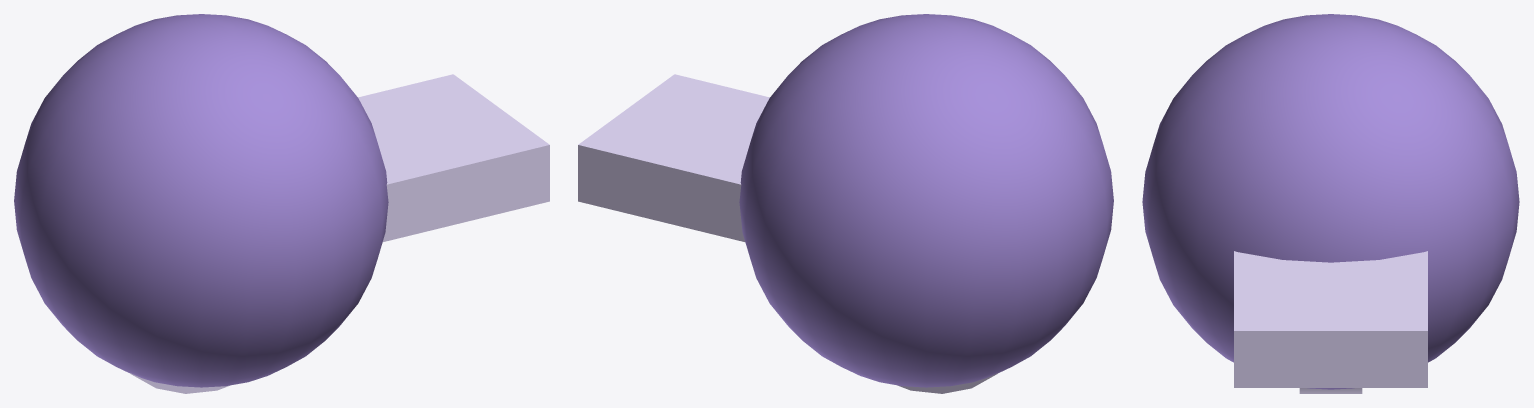
Rendered from flyer-shape-clamp-sphere-v1.glb.
3 renders of one model, left to right at view 1: azimuth 30°, elevation 25°; view 2: azimuth 150°, elevation 25°; view 3: azimuth 270°, elevation 25°, orthographic.
Parts seen in each view (by area): view 1: Clamp Sphere; view 2: Clamp Sphere; view 3: Clamp Sphere.
Boxes of the visible parts, box(x1,y1,x2,y2) form: Clamp Sphere: box(14, 14, 549, 393); Clamp Sphere: box(578, 14, 1113, 393); Clamp Sphere: box(1142, 14, 1519, 393).
Size of the model in its own units: 1.88 by 1.35 by 1.32.
